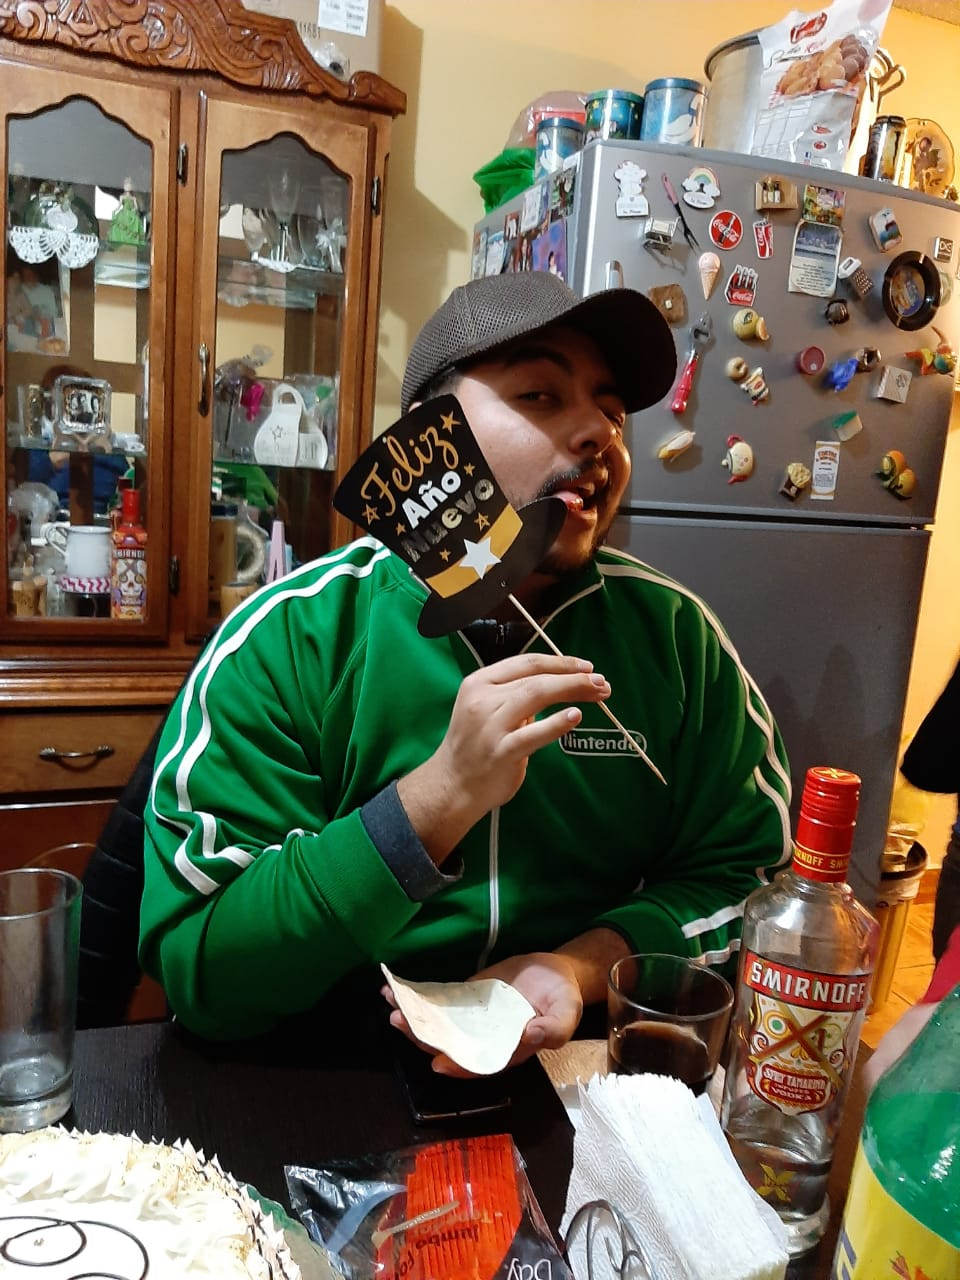Yoshi: (265, 242, 812, 760)
